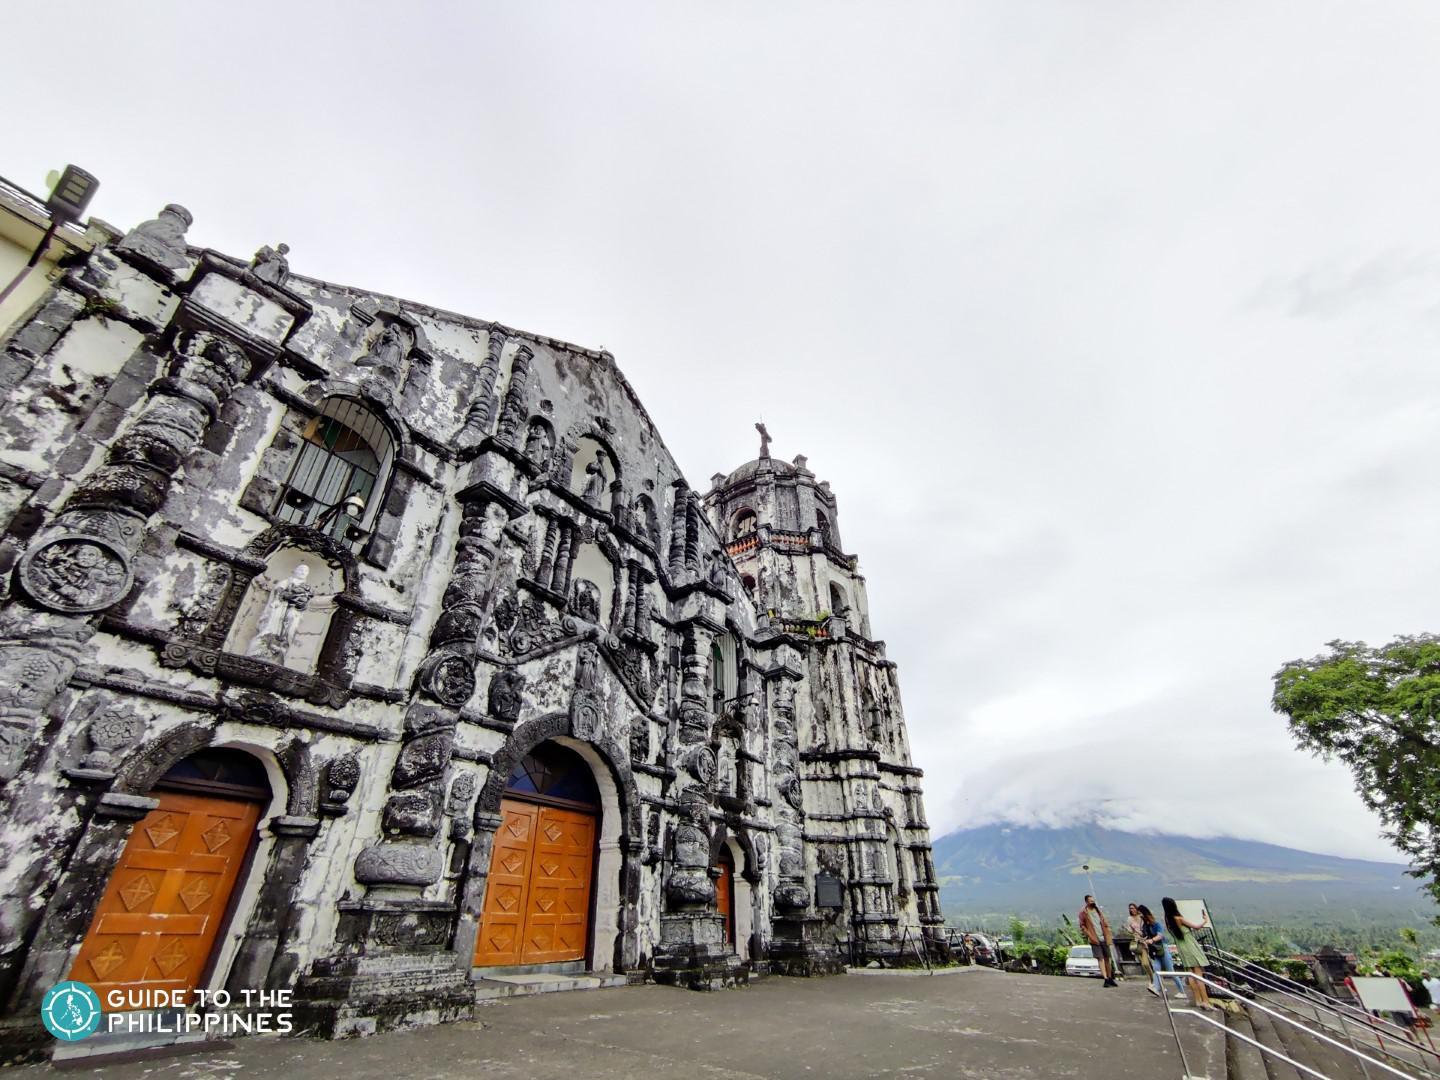daraga_church_daraga_albay: (65, 186, 946, 1010)
